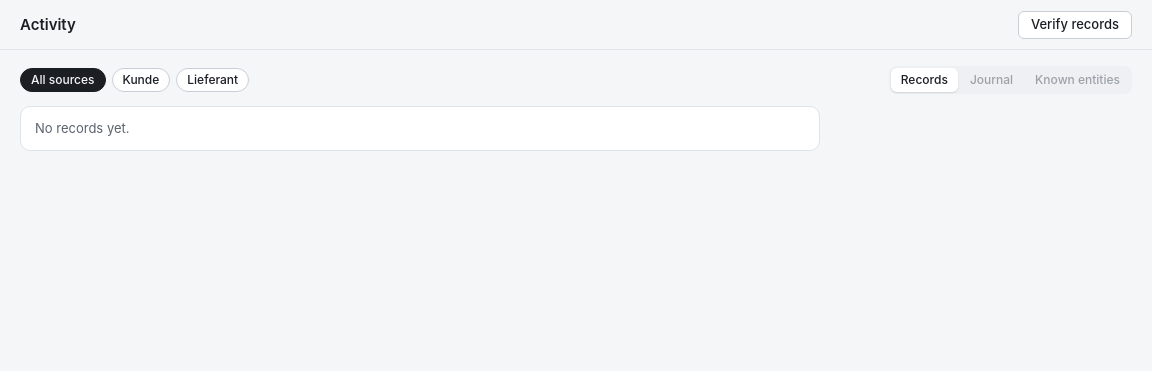
Test: Activity › a forget with the purge pending says so, not 0 forgotten
Step 1. Click the button "Kunde" → [141, 80], box [112,68,170,92]
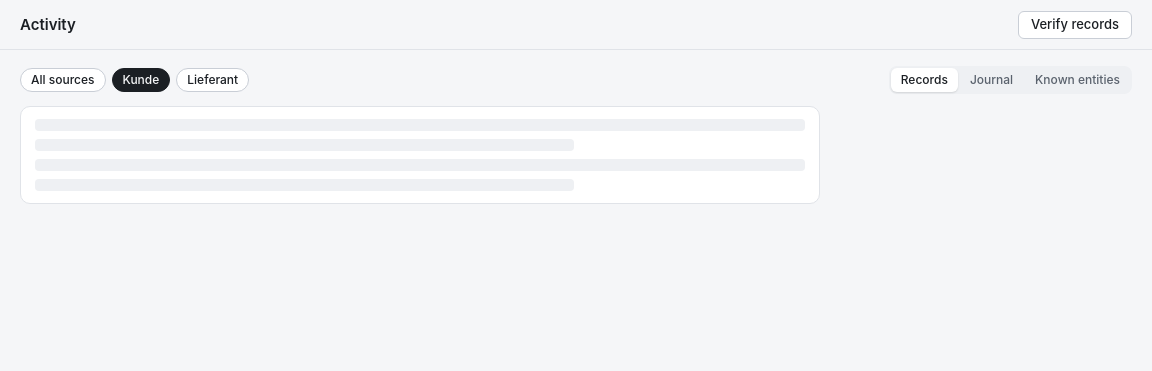
Step 2. Click the tab "Known entities" → [1078, 80], box [1025,68,1130,92]
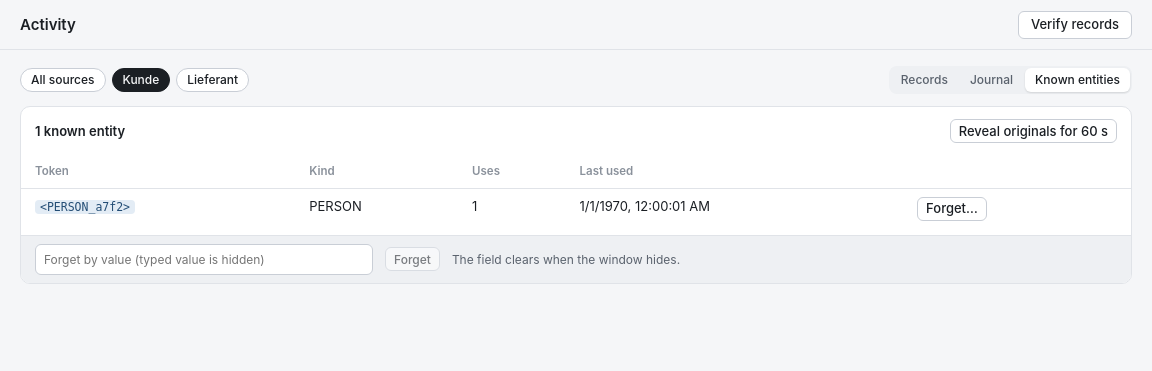
Result: the text "<PERSON_a7f2>" is shown at [35,200,135,214]
Step 3. Click the button "Forget…" → [952, 209], box [917,197,987,221]
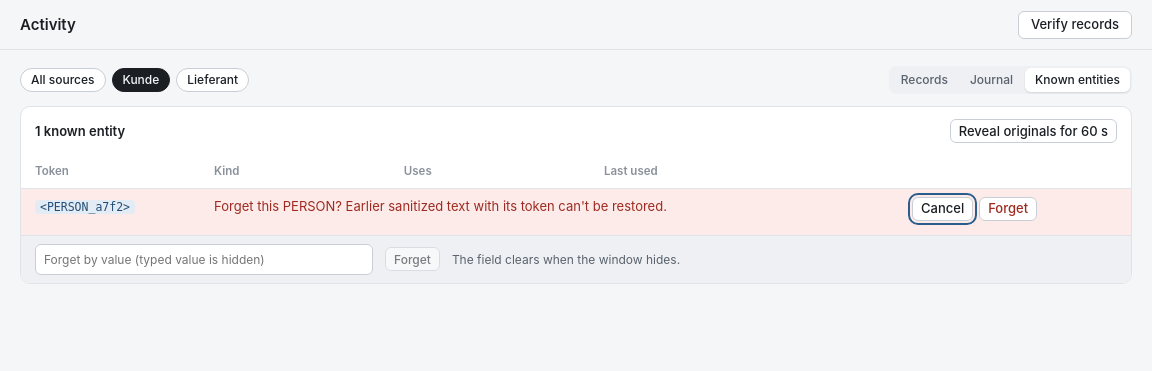
Step 4. Click the button "Forget" in the row of "<PERSON_a7f2>" → [1008, 209], box [979,197,1037,221]
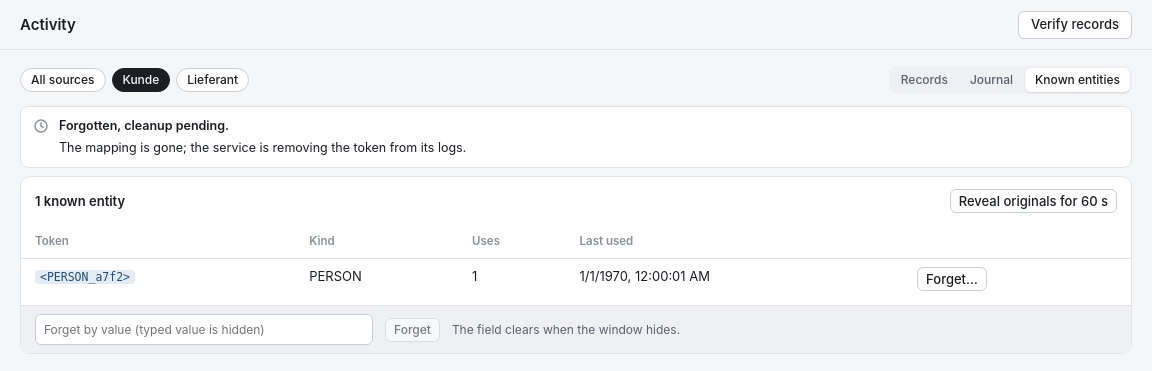
Result: the message reads "Forgotten, cleanup pending." at [59,118,229,133]
